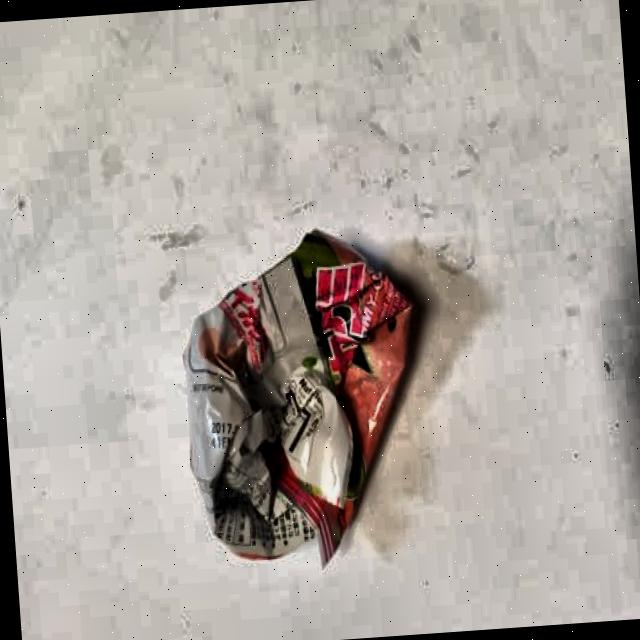plastic: (168, 224, 420, 567)
